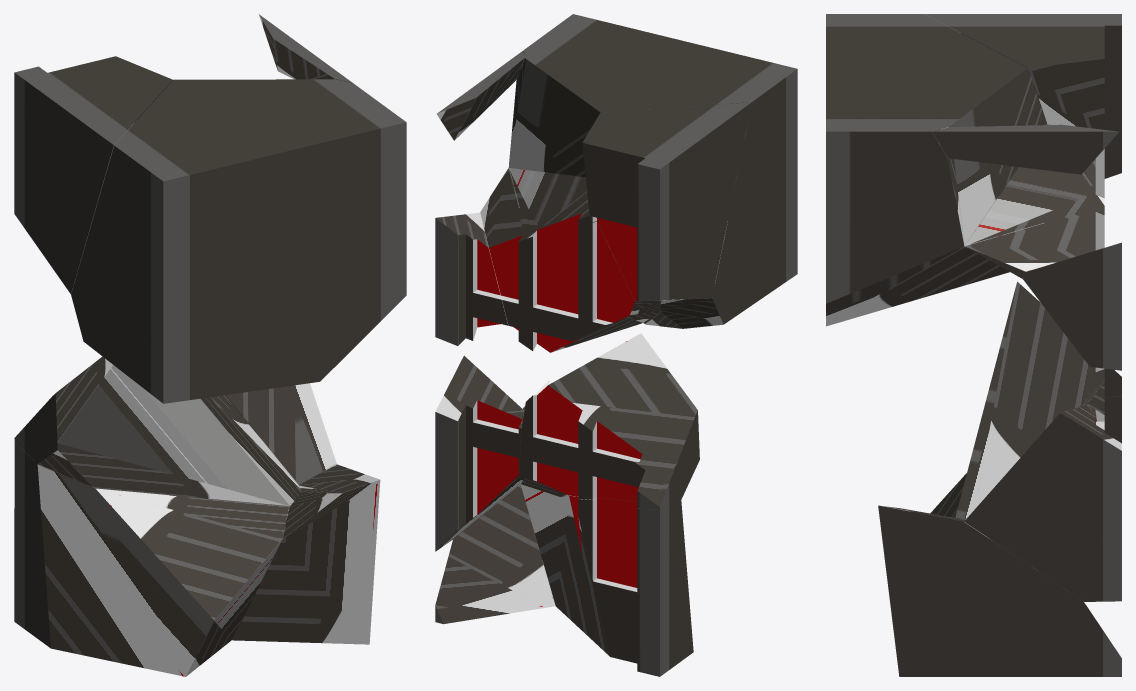
File: bomb_bill_hahen3.gltf
3 renders of one model, left to right at view 1: azimuth 30°, elevation 25°; view 2: azimuth 150°, elevation 25°; view 3: azimuth 270°, elevation 25°, orthographic. The views are drawn at different scales.
Visible parts, largest first — view 1: bomb_bill_cell.009, bomb_bill_cell, bomb_bill_cell.001, bomb_bill_cell.004, bomb_bill_cell.008, bomb_bill_cell.007, bomb_bill_cell.018; view 2: bomb_bill_cell.009, bomb_bill_cell.004, bomb_bill_cell.001, bomb_bill_cell, bomb_bill_cell.017, bomb_bill_cell.007, bomb_bill_cell.008, bomb_bill_cell.003, bomb_bill_cell.018; view 3: bomb_bill_cell.009, bomb_bill_cell.008, bomb_bill_cell.007, bomb_bill_cell.001, bomb_bill_cell.004, bomb_bill_cell.017, bomb_bill_cell.003, bomb_bill_cell.018, bomb_bill_cell.
Part boxes in pixels (x1,y1,x2,y2): bomb_bill_cell.009: (71, 79, 406, 403); bomb_bill_cell: (14, 442, 289, 676); bomb_bill_cell.001: (14, 356, 301, 505); bomb_bill_cell.004: (14, 56, 172, 293); bomb_bill_cell.008: (232, 464, 380, 644); bomb_bill_cell.007: (225, 383, 336, 485); bomb_bill_cell.018: (259, 14, 352, 82); bomb_bill_cell.009: (508, 14, 797, 328); bomb_bill_cell.004: (582, 102, 751, 301); bomb_bill_cell.001: (519, 333, 699, 509); bomb_bill_cell: (520, 477, 693, 676); bomb_bill_cell.017: (480, 168, 660, 352); bomb_bill_cell.007: (435, 355, 525, 551); bomb_bill_cell.008: (435, 380, 555, 624); bomb_bill_cell.003: (435, 212, 507, 345); bomb_bill_cell.018: (437, 51, 524, 140); bomb_bill_cell.009: (826, 14, 1046, 326); bomb_bill_cell.008: (878, 505, 1121, 676); bomb_bill_cell.007: (964, 405, 1121, 601); bomb_bill_cell.001: (955, 281, 1121, 519); bomb_bill_cell.004: (924, 14, 1121, 178); bomb_bill_cell.017: (965, 149, 1104, 278); bomb_bill_cell.003: (1023, 242, 1121, 370); bomb_bill_cell.018: (933, 124, 1118, 174); bomb_bill_cell: (930, 395, 1121, 517).
Size of the model in its own units: 1.66 by 3.58 by 1.76.
Materials: 1 (1 with a texture image).
